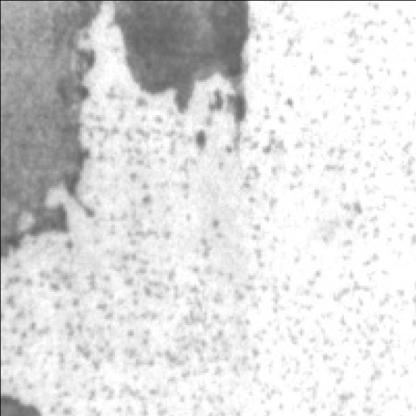patches: (2, 4, 108, 262), (112, 2, 262, 131)
pitted_surface: (79, 106, 416, 416)
